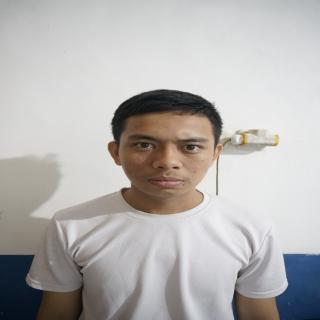Marah: (116, 110, 219, 202)
